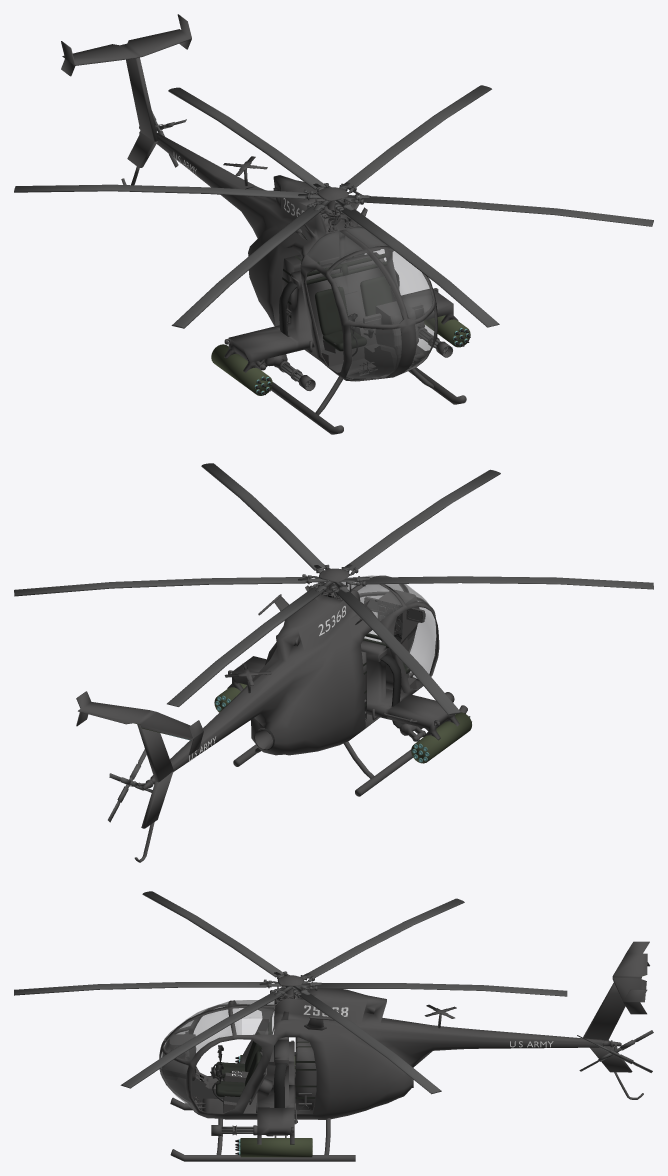
File: mh-6_little_bird.glb
3 views of the same model, one above another, from view 1: azimuth 30°, elevation 25°; view 2: azimuth 150°, elevation 25°; view 3: azimuth 270°, elevation 25° (orthographic). The views are drawn at different scales.
Visible parts, largest first — view 1: MH-6 Littel Bird Main; view 2: MH-6 Littel Bird Main; view 3: MH-6 Littel Bird Main.
Boxes of the visible parts, x1=… form: MH-6 Littel Bird Main: x1=14, y1=14, x2=653, y2=434; MH-6 Littel Bird Main: x1=14, y1=463, x2=653, y2=862; MH-6 Littel Bird Main: x1=14, y1=891, x2=653, y2=1161.
Size of the model in its own units: 8.81 by 3.41 by 11.78.
Materials: 2 (1 with a texture image).
